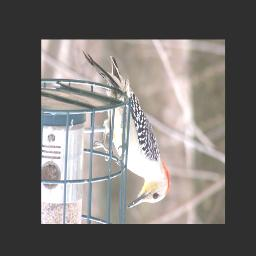Woodpecker: (82, 49, 173, 212)
